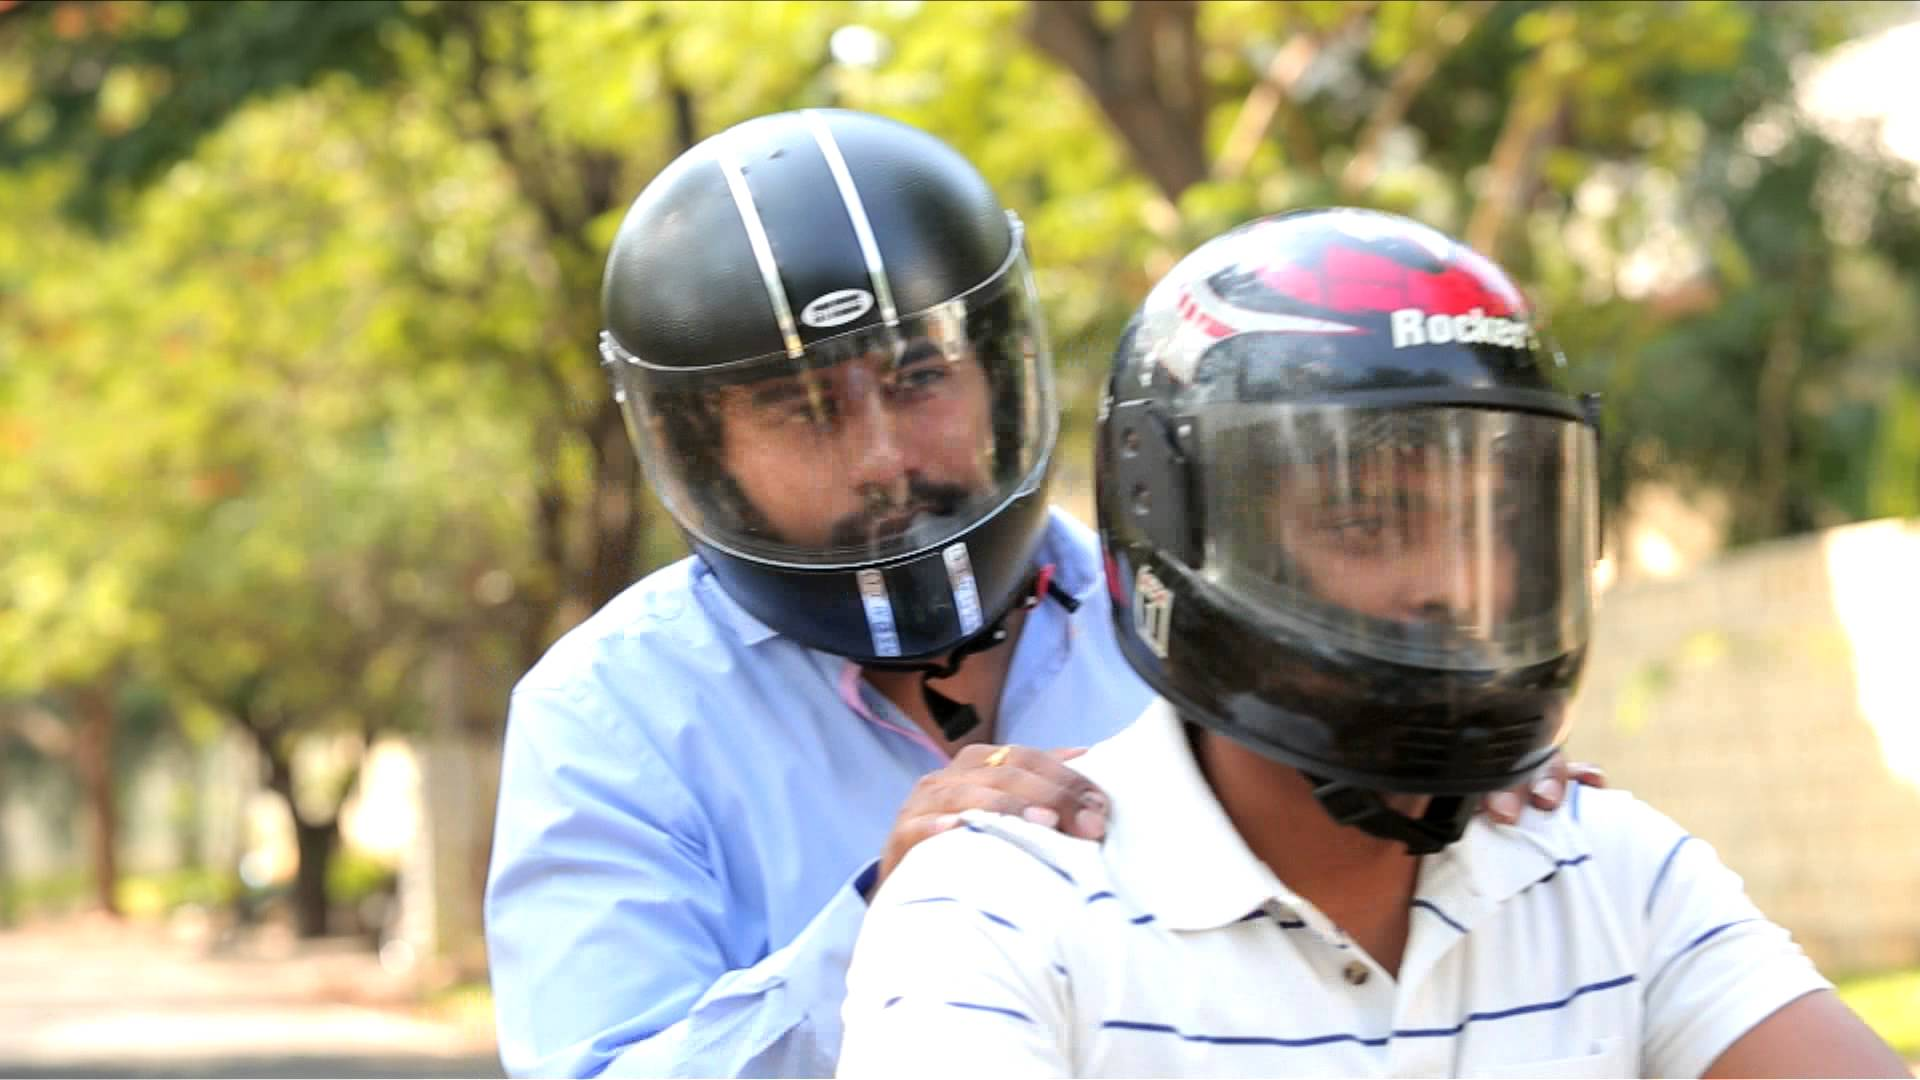helmet: (1112, 196, 1590, 700), (640, 131, 1043, 596)
